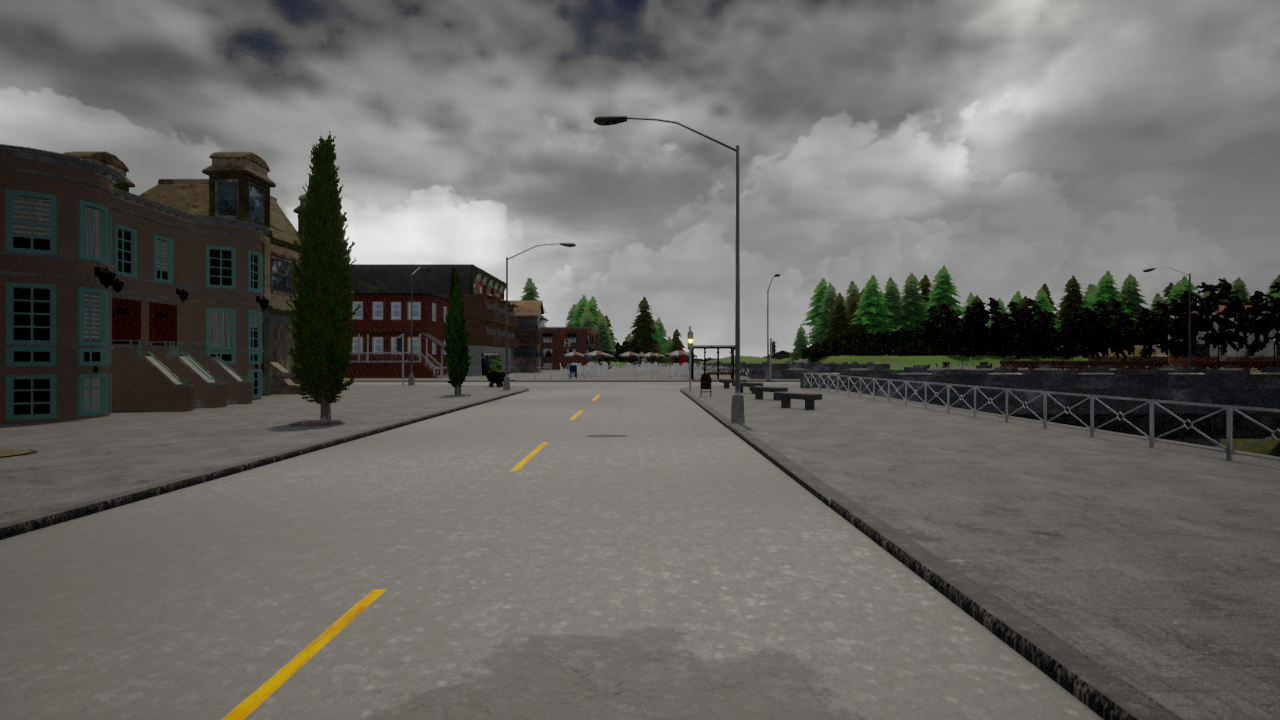yellow: (687, 331, 695, 350)
